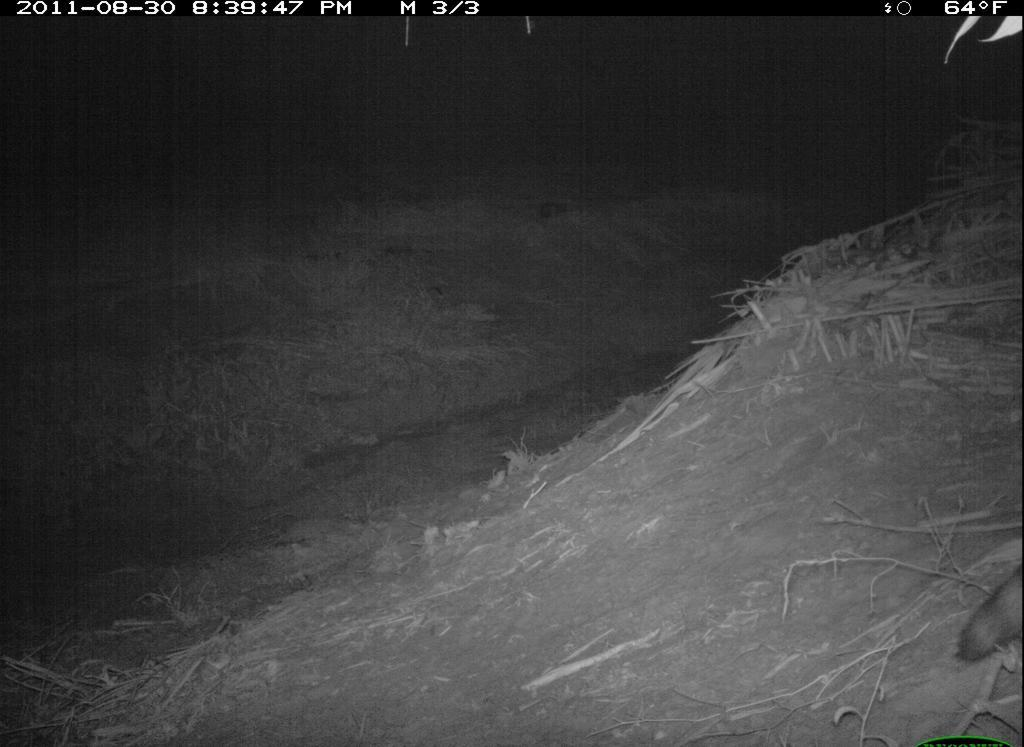raccoon: (954, 542, 1022, 673)
